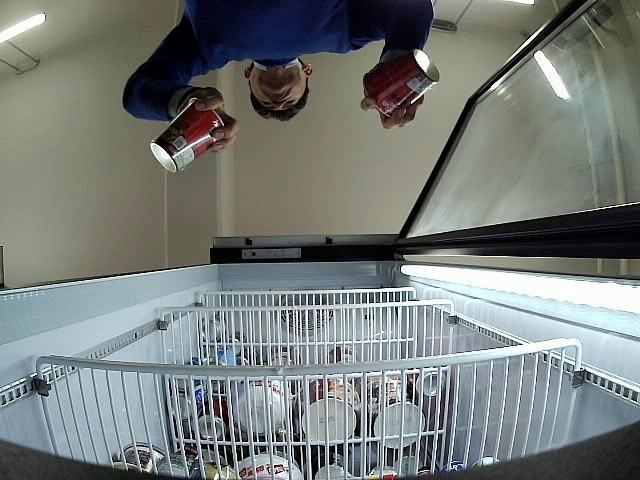02_shinRamen_S: (150, 100, 227, 172), (363, 48, 439, 117)
